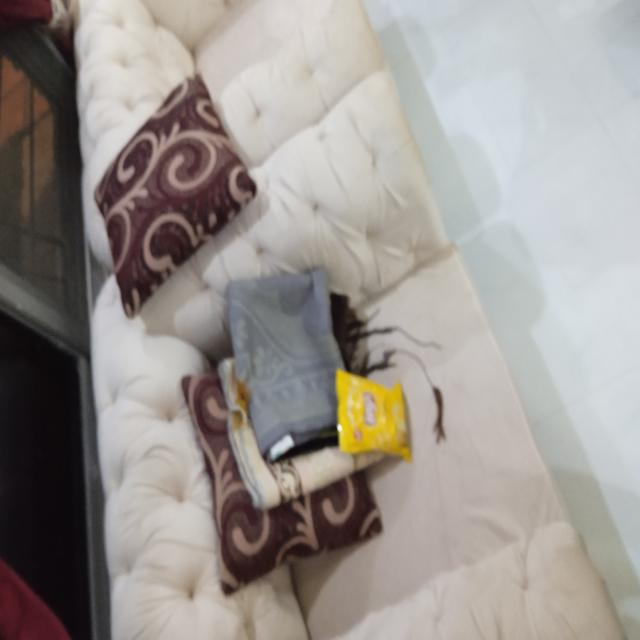Plastic: (334, 369, 417, 464)
